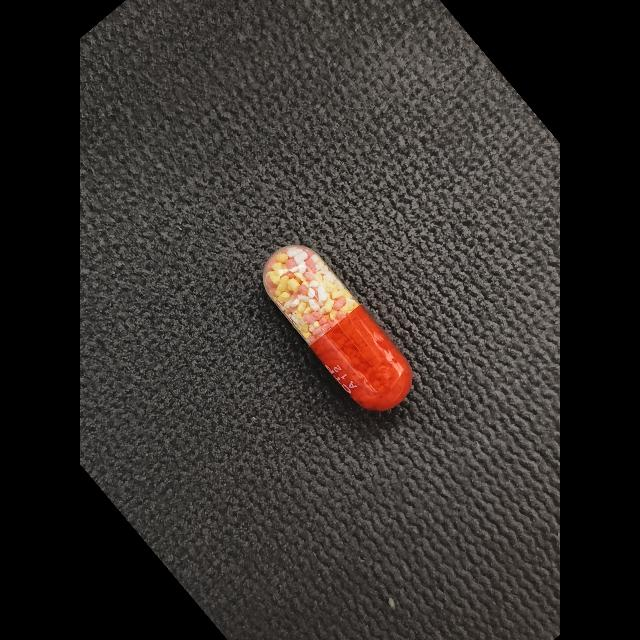Intact Capsule: (263, 245, 412, 411)
